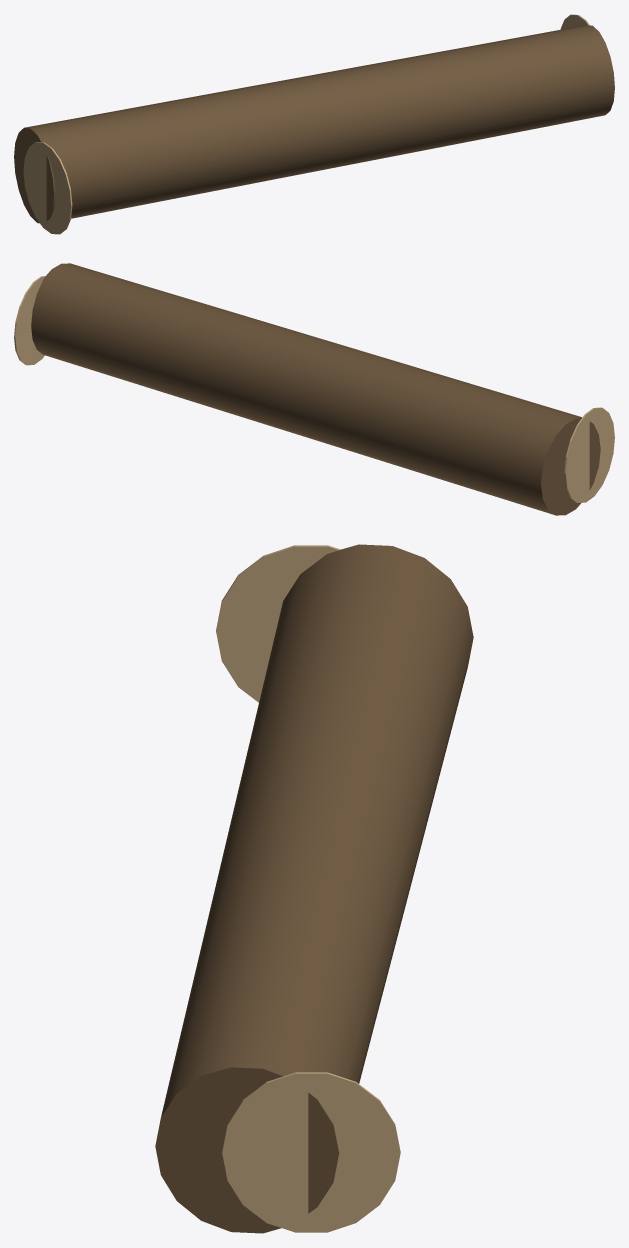
The model's file is log.glb.
3 renders of one model, top to bottom at view 1: azimuth 30°, elevation 25°; view 2: azimuth 150°, elevation 25°; view 3: azimuth 270°, elevation 25°, orthographic. The views are drawn at different scales.
Parts seen in each view (by area): view 1: log.001, ends; view 2: log.001, ends; view 3: log.001, ends.
Part boxes in pixels (x1=…): log.001: x1=14, y1=25, x2=614, y2=223; ends: x1=23, y1=14, x2=589, y2=234; log.001: x1=31, y1=263, x2=600, y2=515; ends: x1=14, y1=276, x2=614, y2=502; log.001: x1=155, y1=544, x2=473, y2=1233; ends: x1=216, y1=545, x2=400, y2=1232.
Size of the model in its own units: 4.04 by 0.6303 by 1.03.
